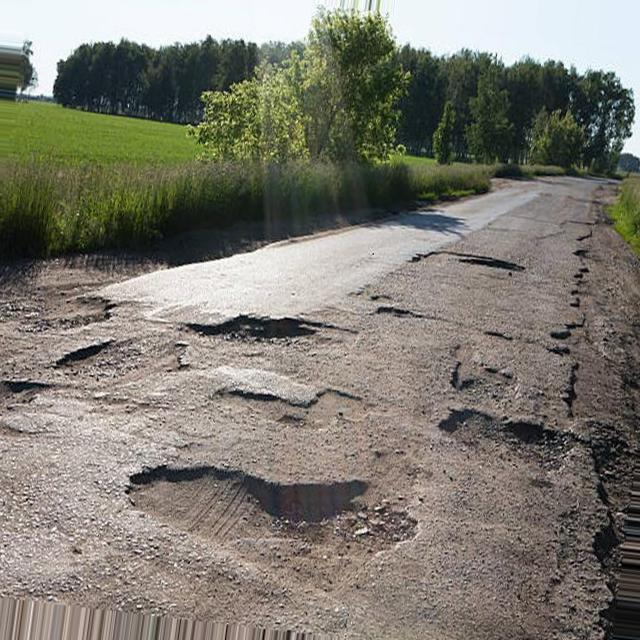Lubang: (123, 458, 428, 563), (432, 409, 574, 471), (175, 310, 355, 350)
Pinggir: (549, 215, 640, 640)
